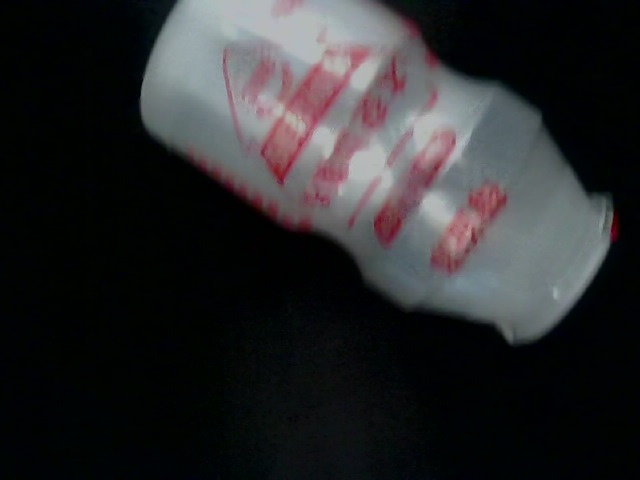CYLJ: (17, 143, 119, 245)
